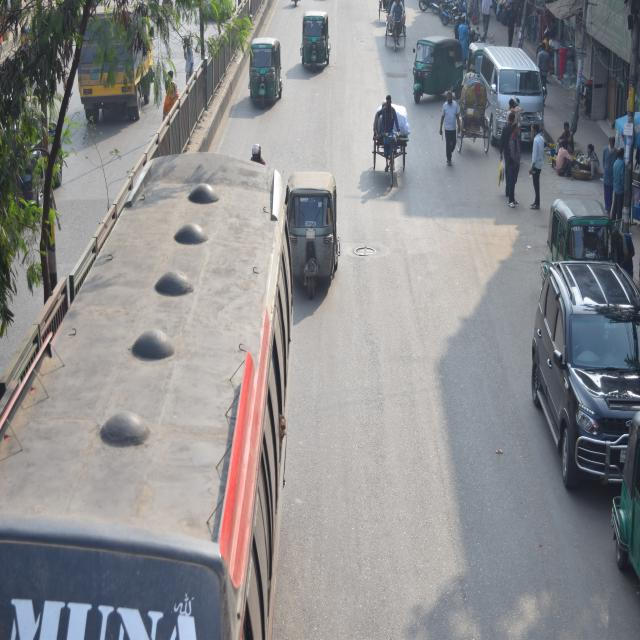car: (1, 141, 278, 640), (538, 264, 640, 484)
microbus: (472, 46, 566, 192)
pickup-van: (77, 9, 156, 144)
